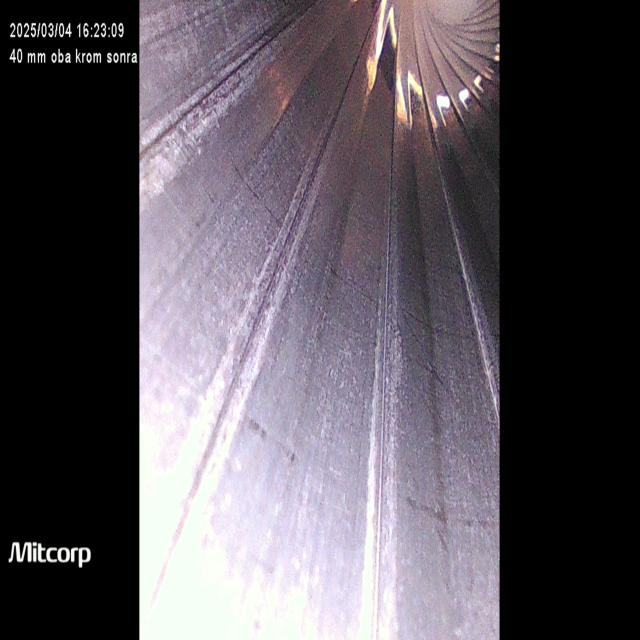hata_9.3: (137, 0, 306, 222)
